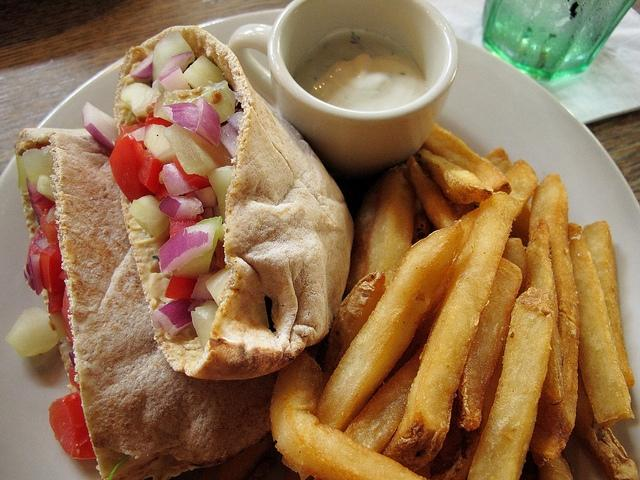onion: (163, 123, 232, 180), (152, 80, 236, 123), (5, 306, 60, 357), (158, 222, 214, 272), (82, 100, 118, 153), (128, 195, 168, 238), (206, 166, 234, 224), (152, 299, 193, 336), (190, 300, 218, 352), (183, 55, 226, 88), (120, 82, 158, 118), (144, 124, 176, 165), (158, 195, 204, 220), (162, 102, 200, 132), (162, 162, 194, 196), (206, 268, 230, 307), (159, 52, 194, 77), (23, 255, 44, 296), (158, 66, 192, 90), (130, 51, 154, 79), (220, 123, 238, 159)
tomato: (110, 135, 164, 203), (50, 392, 96, 460), (173, 155, 213, 190), (39, 243, 62, 291), (165, 274, 198, 301), (145, 103, 175, 128), (39, 209, 59, 244), (170, 218, 200, 237), (48, 290, 64, 314), (61, 285, 70, 327)
